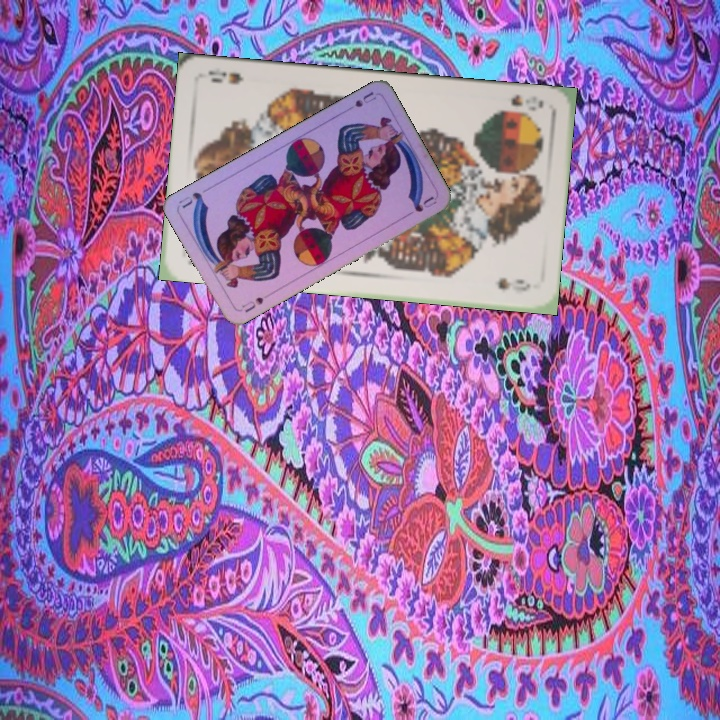SO: (506, 90, 546, 114)
SU: (340, 87, 379, 115), (238, 293, 266, 315)
